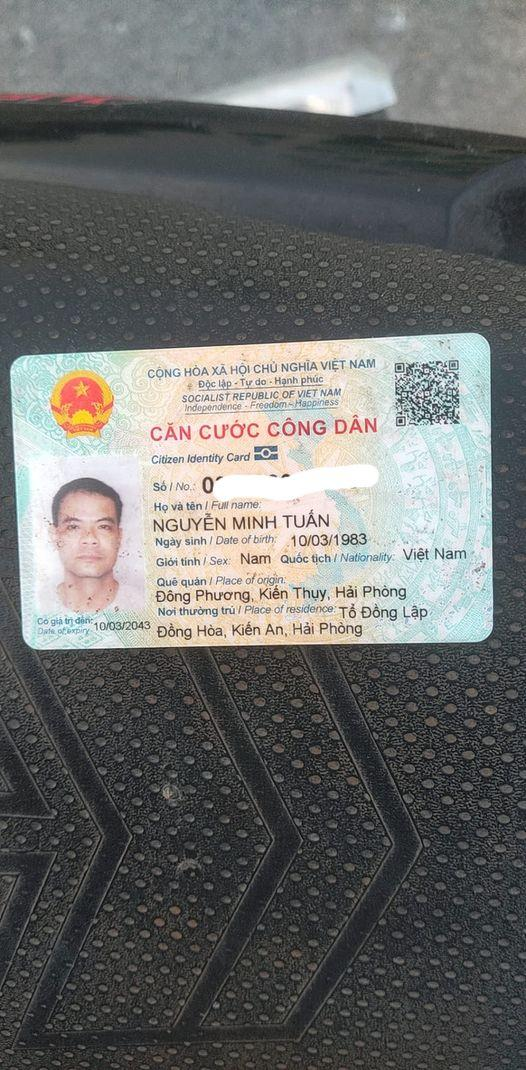bottom_left: (16, 625, 42, 654)
bottom_right: (467, 626, 496, 653)
image_person: (36, 460, 154, 610)
top_left: (3, 350, 30, 386)
top_right: (460, 326, 498, 359)
